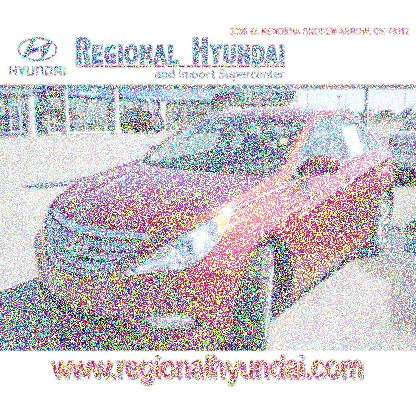Vehicle: (35, 104, 394, 357)
